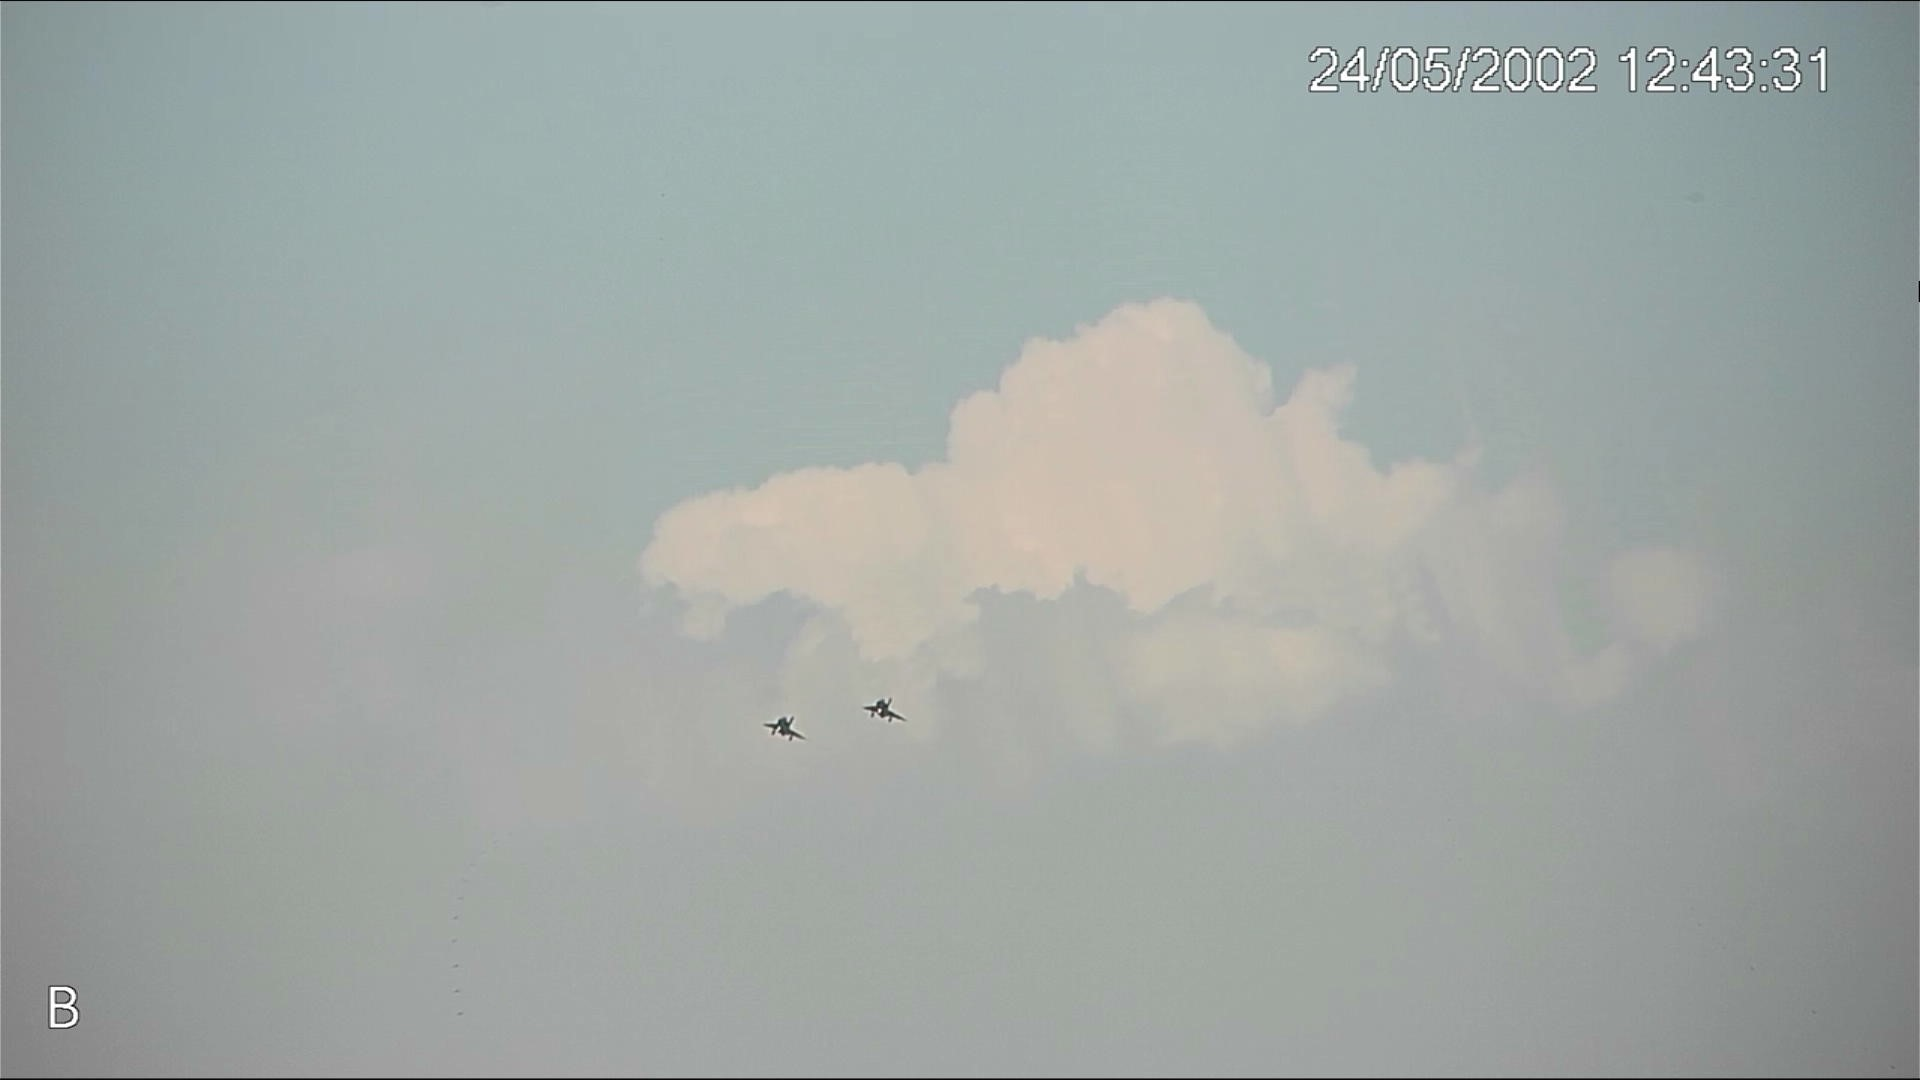SU_30: (862, 698, 913, 725), (762, 715, 810, 742)
